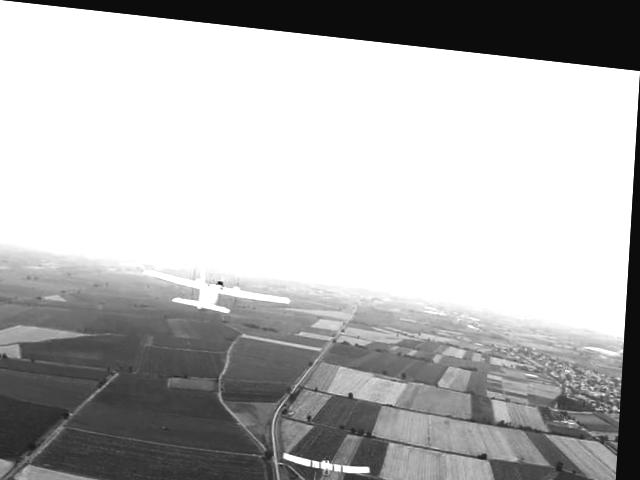hedef: (142, 254, 303, 330), (283, 426, 381, 480)
